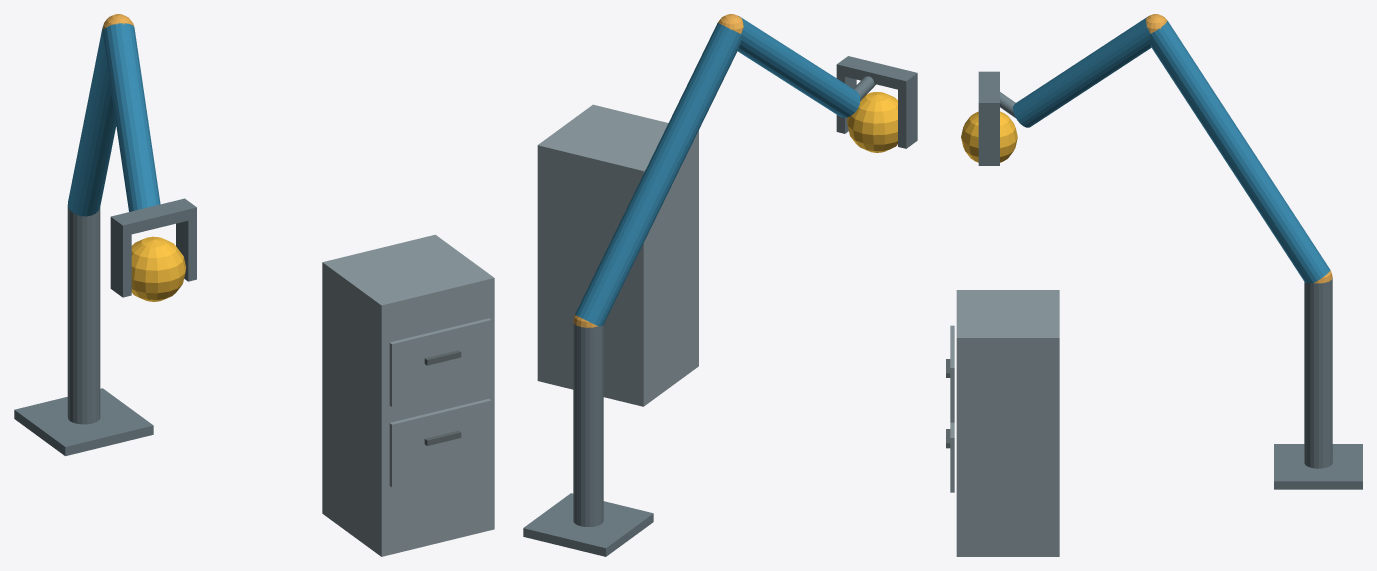
3 views of the same model, side by side, from view 1: azimuth 30°, elevation 25°; view 2: azimuth 150°, elevation 25°; view 3: azimuth 270°, elevation 25° (orthographic). The views are drawn at different scales.
Visible parts, largest first — view 1: cabinet_1 body, fixed post, cabinet_1 drawer front, cabinet_1 drawer front.001, moving link 2, pedestal, moving link 1, ball ball_1, gripper bridge, gripper finger -1, gripper finger 1; view 2: cabinet_1 body, moving link 1, fixed post, pedestal, moving link 2, ball ball_1, gripper bridge, gripper finger -1; view 3: cabinet_1 body, moving link 1, fixed post, moving link 2, pedestal, ball ball_1, gripper finger 1, gripper bridge.
Part boxes in pixels (<box>): cabinet_1 body: <box>322,234,494,556</box>; fixed post: <box>67,204,100,424</box>; cabinet_1 drawer front: <box>389,398,491,487</box>; cabinet_1 drawer front.001: <box>389,318,491,406</box>; moving link 2: <box>102,23,160,211</box>; pedestal: <box>14,388,153,456</box>; moving link 1: <box>68,25,116,216</box>; ball ball_1: <box>131,236,186,301</box>; gripper bridge: <box>110,198,196,236</box>; gripper finger -1: <box>110,228,131,297</box>; gripper finger 1: <box>176,218,196,281</box>; cabinet_1 body: <box>537,104,698,406</box>; moving link 1: <box>575,23,741,326</box>; fixed post: <box>573,322,603,526</box>; pedestal: <box>523,493,653,556</box>; moving link 2: <box>738,16,860,117</box>; ball ball_1: <box>847,92,897,152</box>; gripper bridge: <box>836,56,917,91</box>; gripper finger -1: <box>898,83,917,148</box>; cabinet_1 body: <box>956,290,1059,556</box>; moving link 1: <box>1150,20,1330,283</box>; fixed post: <box>1304,278,1332,468</box>; moving link 2: <box>1013,17,1151,127</box>; pedestal: <box>1274,444,1362,489</box>; ball ball_1: <box>961,111,1017,162</box>; gripper finger 1: <box>978,112,999,165</box>; gripper bridge: <box>978,71,999,112</box>.
Size of the model in its own units: 1.02 by 1.34 by 1.17.
